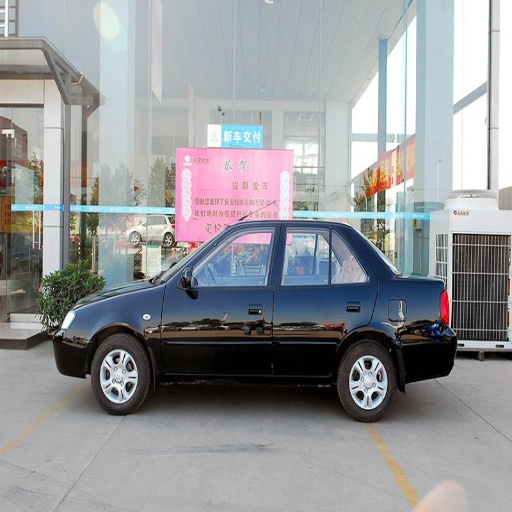back_left_door: (274, 220, 375, 372)
